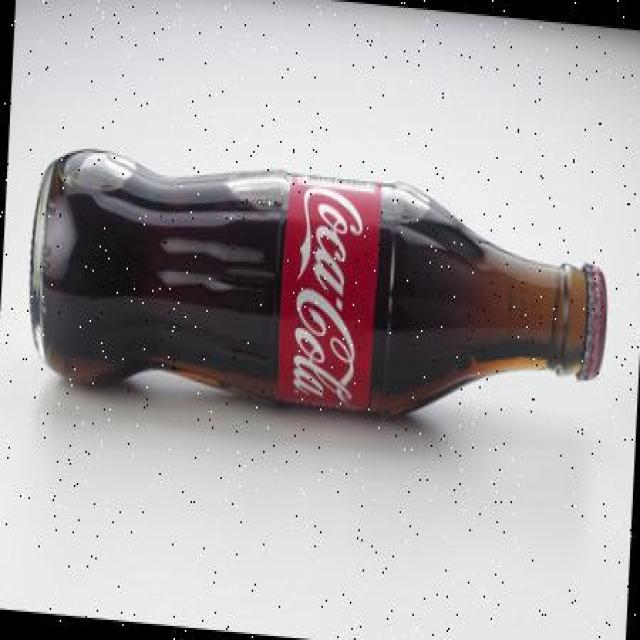coca-cola: (14, 129, 617, 463)
